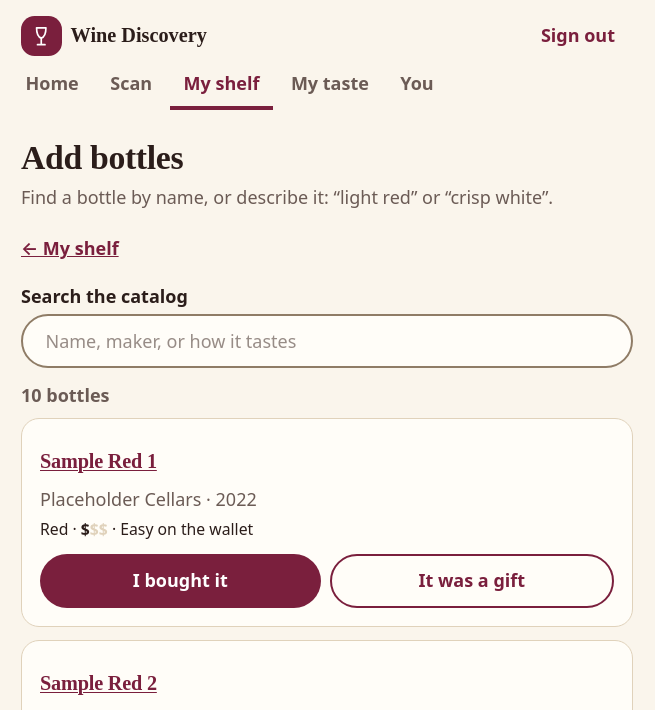
Test: My shelf › says so, kindly, when nothing matches
Type "zzzz" into the search field labelled "Search the catalog".
click(327, 341); type("zzzz")  # box [21,314,633,368]
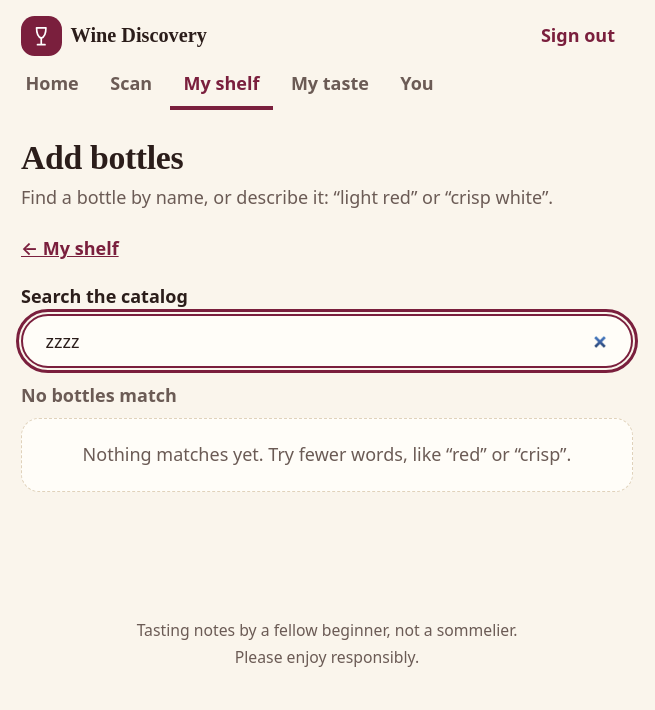
Now the text "No bottles match" is shown, box [21,383,177,407]
Now the text "Nothing matches yet. Try fewer words, like “red” or “crisp”." is shown, box [21,418,633,492]
